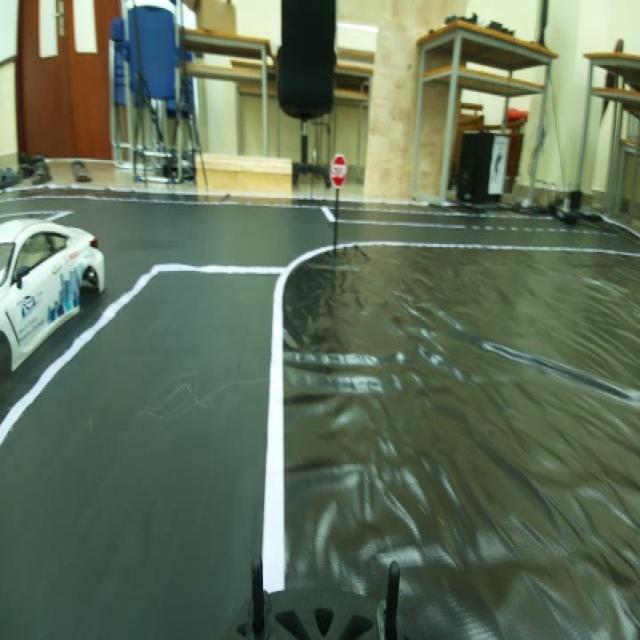stop: (326, 149, 350, 188)
